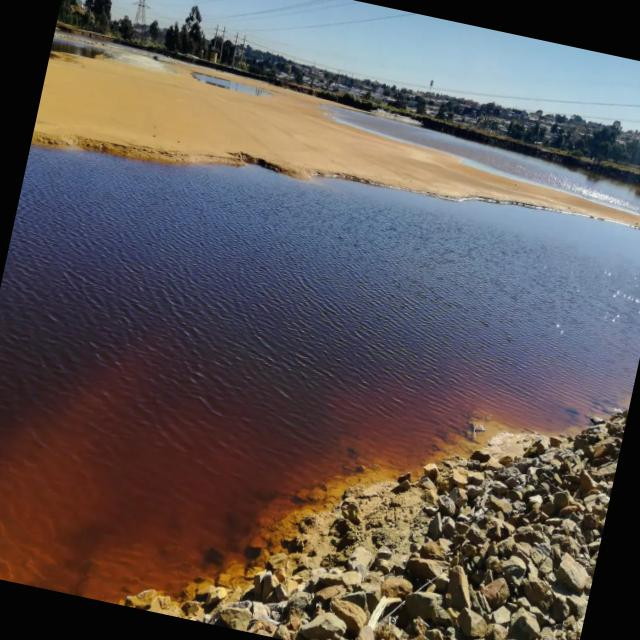yellow_boy: (0, 146, 640, 600)
